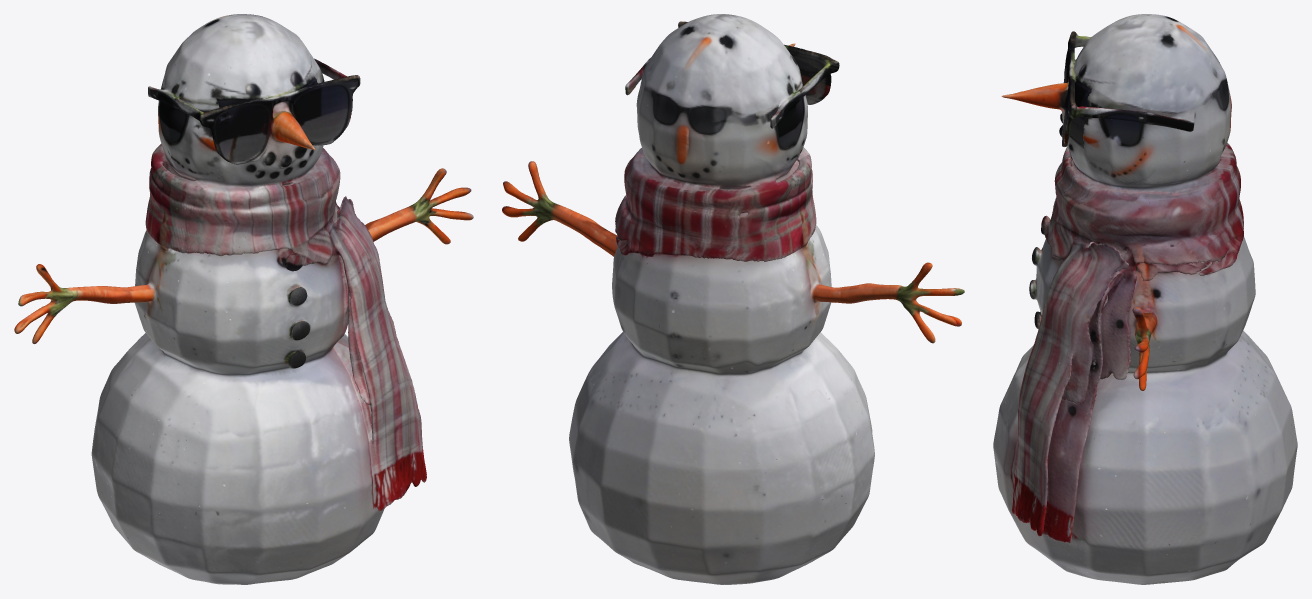
Rendered from meshy low.glb.
The picture shows the model from 3 angles, left to right: view 1: azimuth 30°, elevation 25°; view 2: azimuth 150°, elevation 25°; view 3: azimuth 270°, elevation 25°; orthographic projection.
Size of the model in its own units: 1.78 by 2 by 1.02.
Materials: 1 (1 with a texture image).
